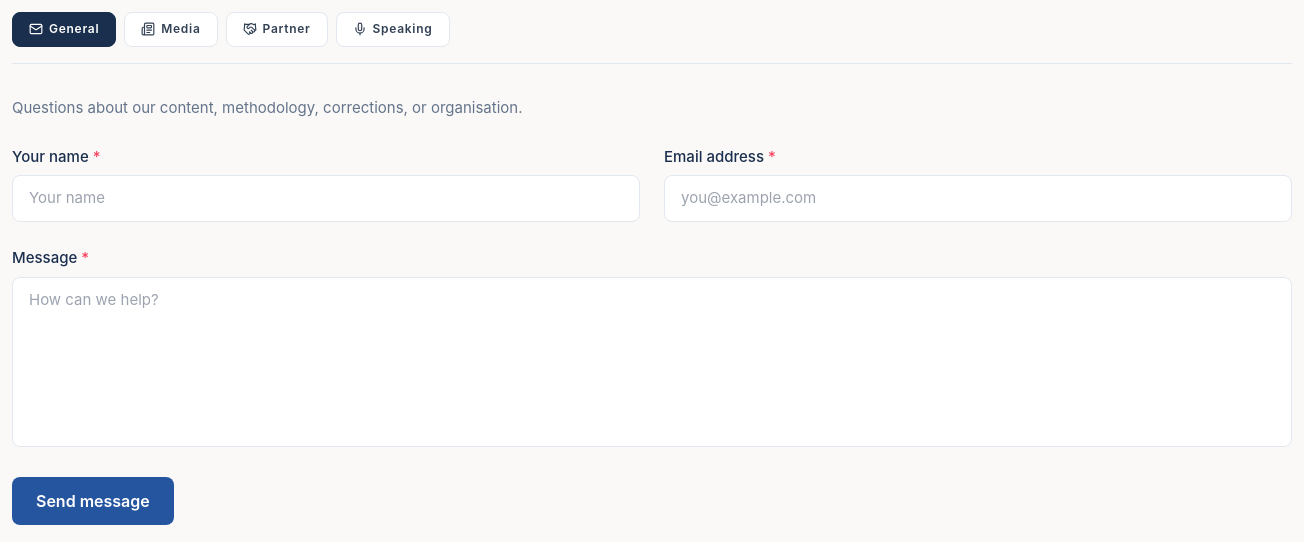
Test: ContactForms › switches to speaking form tab
Step 1. Click the button "Speaking" → {"x": 392, "y": 29}, box [336,12,450,47]
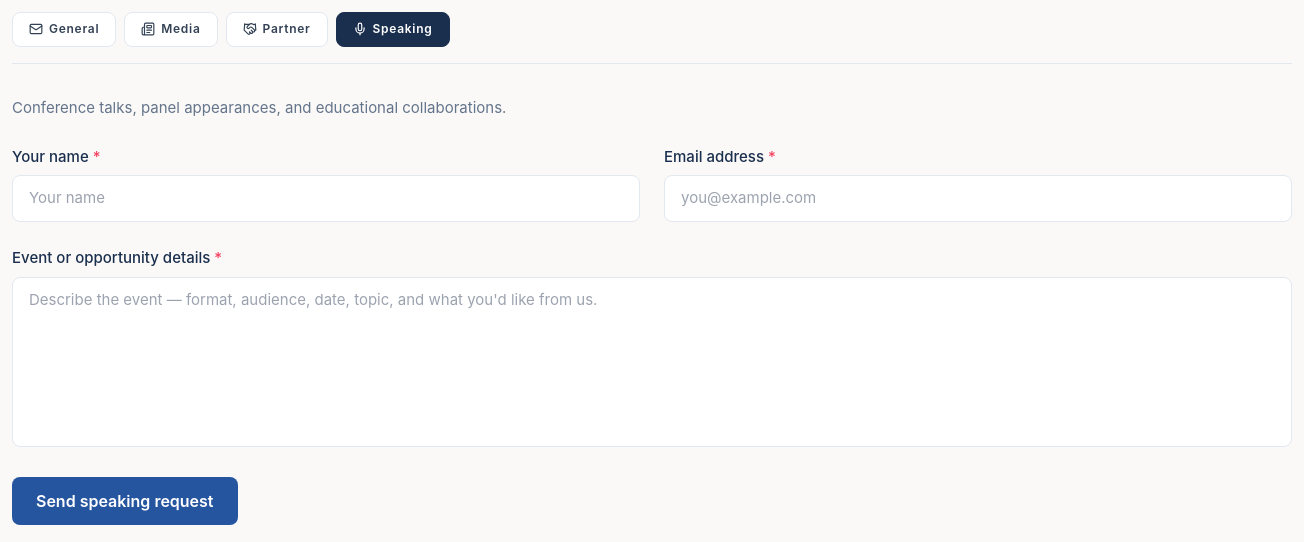
Expected: the text box labelled "Event or opportunity details*" is shown, [12,277,1292,447]
